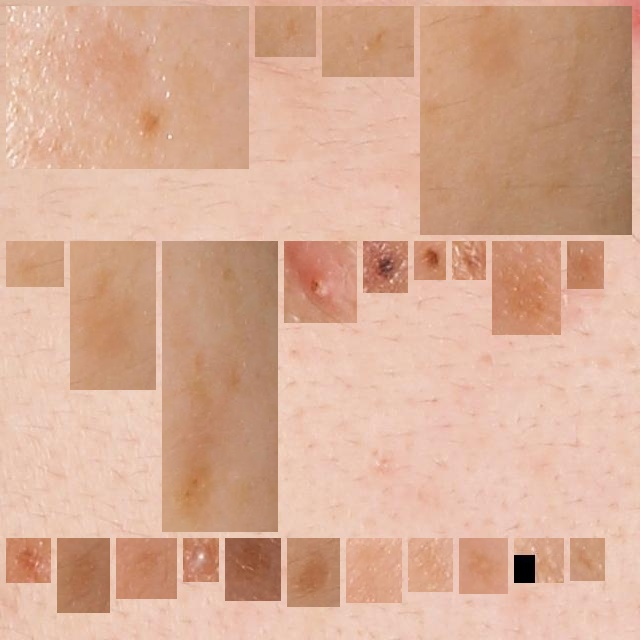melasma: (428, 14, 624, 227), (14, 14, 241, 161), (170, 249, 270, 524), (78, 249, 148, 382), (330, 14, 406, 69), (500, 249, 553, 327), (65, 546, 102, 605), (124, 546, 169, 591), (295, 546, 332, 599), (354, 546, 394, 595), (233, 546, 273, 593), (263, 14, 308, 49), (467, 546, 500, 586), (14, 249, 56, 279), (416, 546, 445, 584), (522, 546, 556, 575), (575, 249, 596, 281), (578, 546, 597, 573)
nevus: (371, 249, 400, 285), (460, 249, 478, 272), (422, 249, 438, 272)
pustule: (292, 249, 349, 315), (191, 546, 211, 574)
